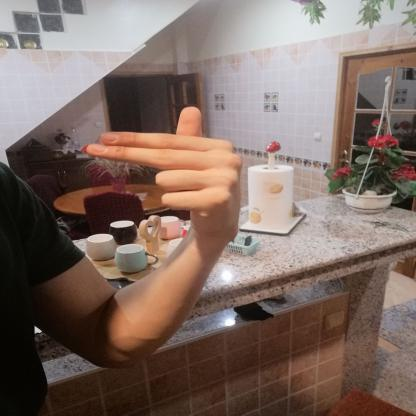GHAYN: (77, 99, 254, 245)
